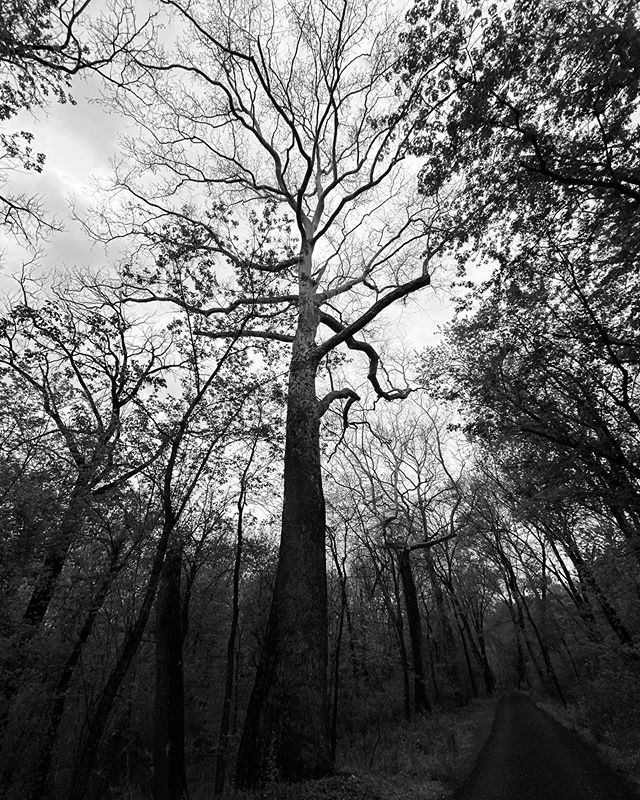road: (434, 672, 640, 800)
sky: (22, 3, 485, 406)
tree: (199, 1, 406, 800), (409, 26, 640, 614), (1, 298, 154, 763), (321, 421, 504, 724), (128, 426, 247, 793)
